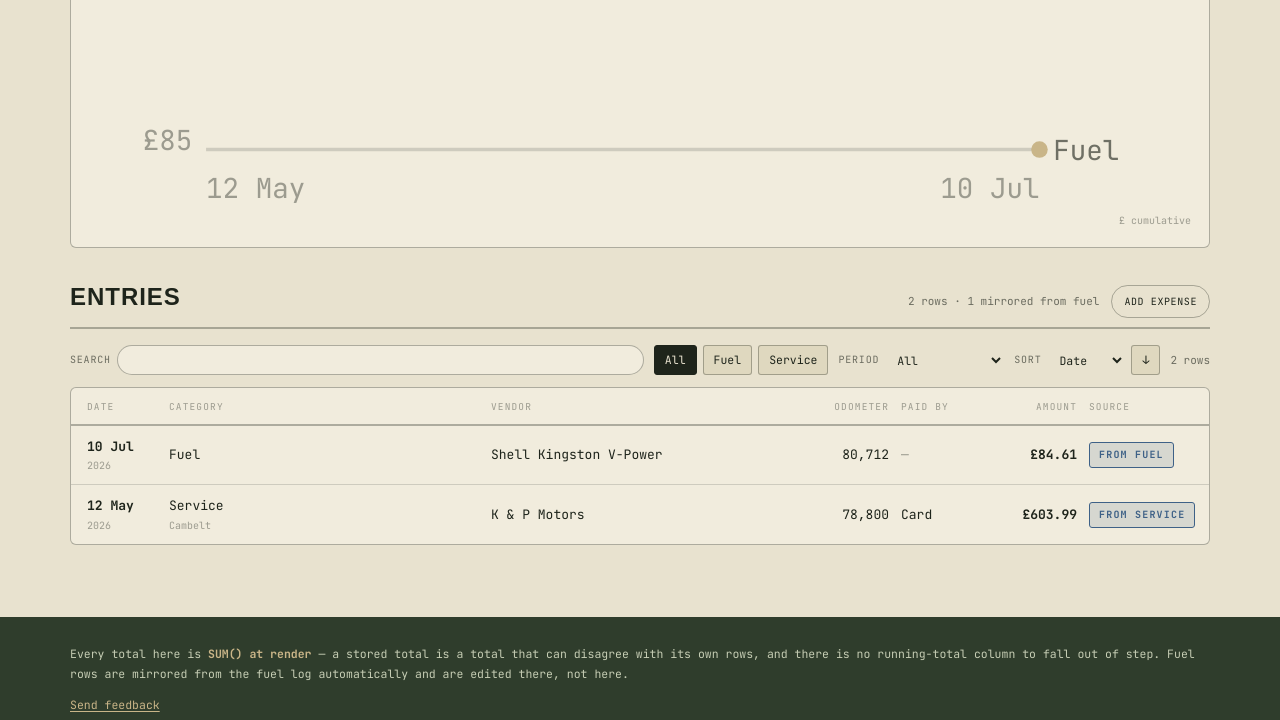
Test case: search › matches case-insensitively
(page scrolled)
Check: the text "K & P Motors" is shown, box [491,506,585,523]
Step 1. Type "SHELL" into the search field labelled "Search" → {"x": 380, "y": 360}, box [117,345,644,375]
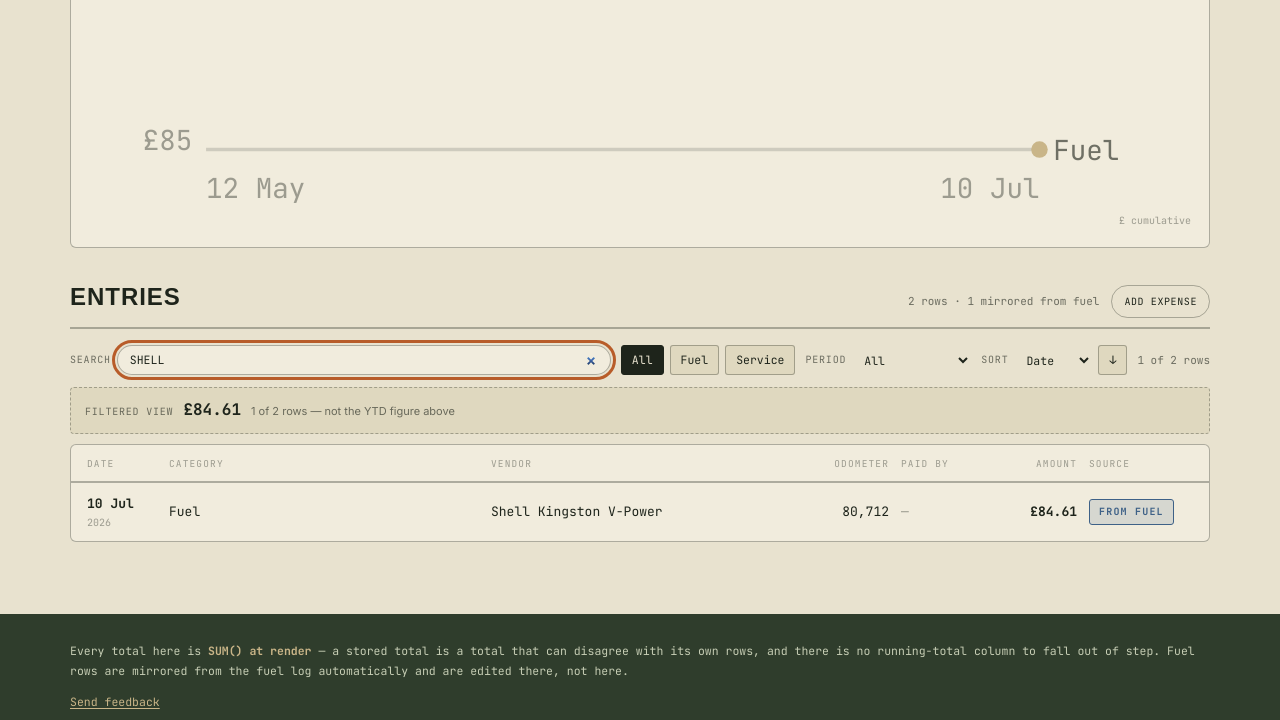
Check: the text "Shell Kingston V-Power" is shown, box [491,503,663,520]
Check: the text with class "tctl-count" shows "1 of 2", box [1137,353,1177,367]
